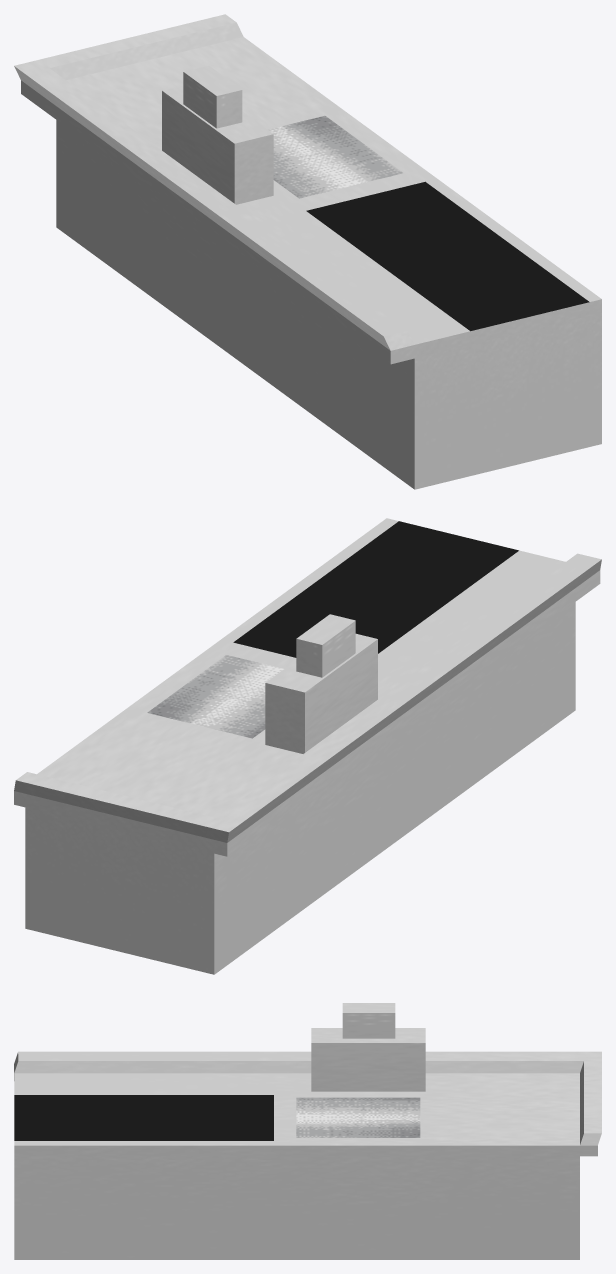
File: Caisse.fbx
3 renders of one model, top to bottom at view 1: azimuth 30°, elevation 25°; view 2: azimuth 150°, elevation 25°; view 3: azimuth 270°, elevation 25°, orthographic. The views are drawn at different scales.
Parts seen in each view (by area): view 1: Cube.010; view 2: Cube.010; view 3: Cube.010.
Boxes of the visible parts, left/top/right/bottom form: Cube.010: left=14, top=14, right=601, bottom=489; Cube.010: left=14, top=518, right=601, bottom=974; Cube.010: left=14, top=1003, right=601, bottom=1259.
Size of the model in its own units: 344 by 364 by 1028.
